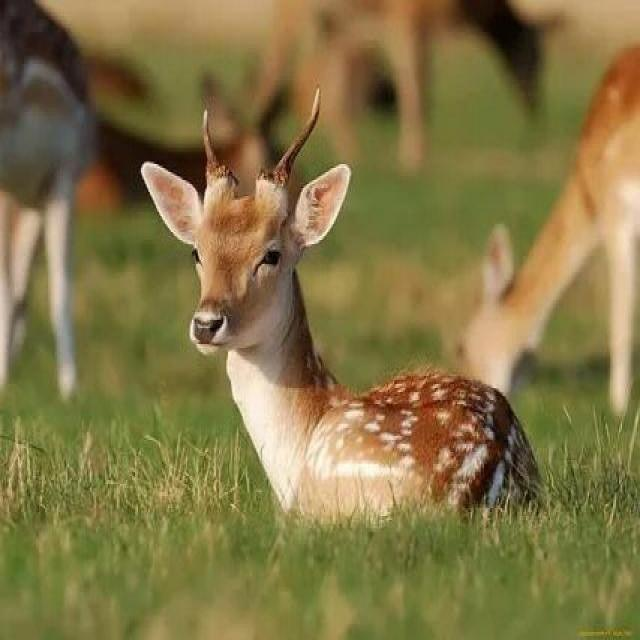deer: (107, 94, 577, 546)
